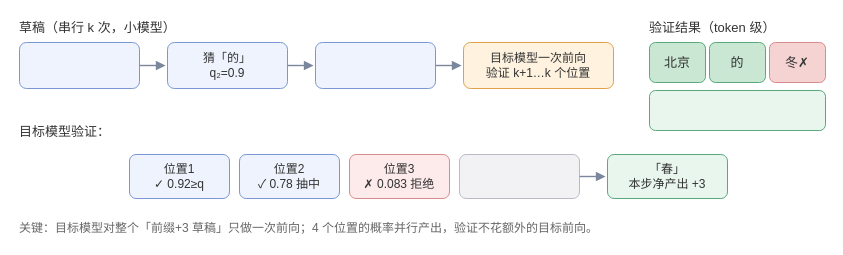
The diagram is 843 pixels wide and 255 high, and some of its shapes have lost their labels. Each missing label, with the centre of its shape:
"norm(p−q)+ 重采 后段草稿全部丢弃" belongs at pixel 519 176.
"拒绝位重采 →「春」" belongs at pixel 737 110.
"猜「冬天」 q₃=0.6" belongs at pixel 375 65.
"猜「北京」 q₁=0.9" belongs at pixel 79 65.
